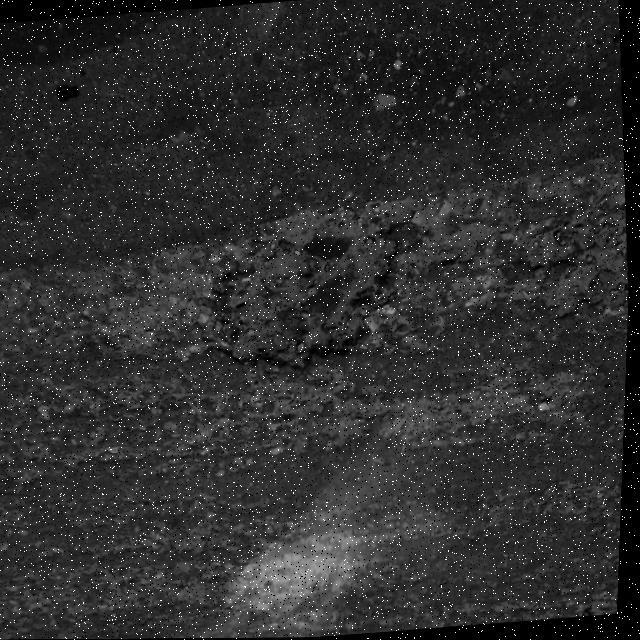pothole: (202, 195, 412, 378)
